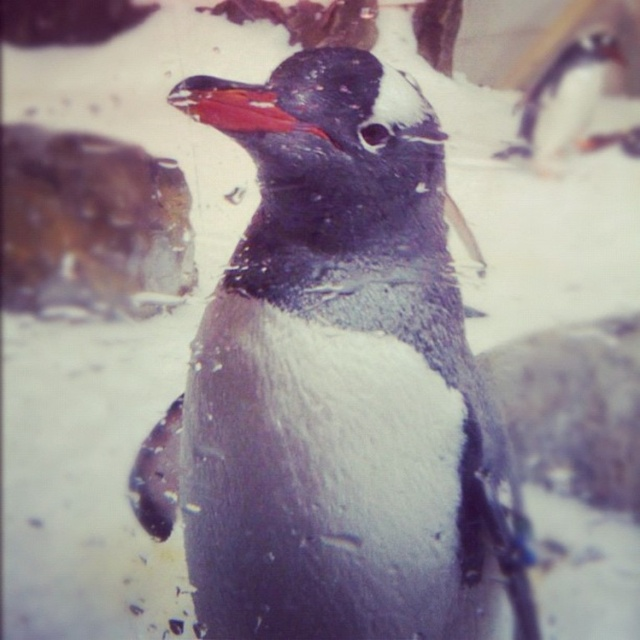Penguin: (120, 45, 546, 638)
